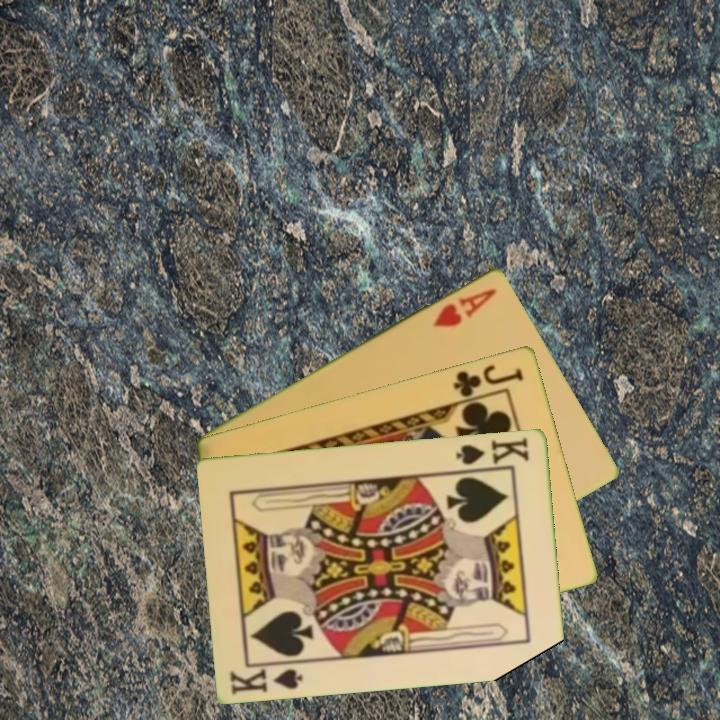Ah: (429, 284, 500, 330)
Jc: (450, 360, 527, 400)
Ks: (227, 658, 308, 697), (453, 434, 532, 473)
